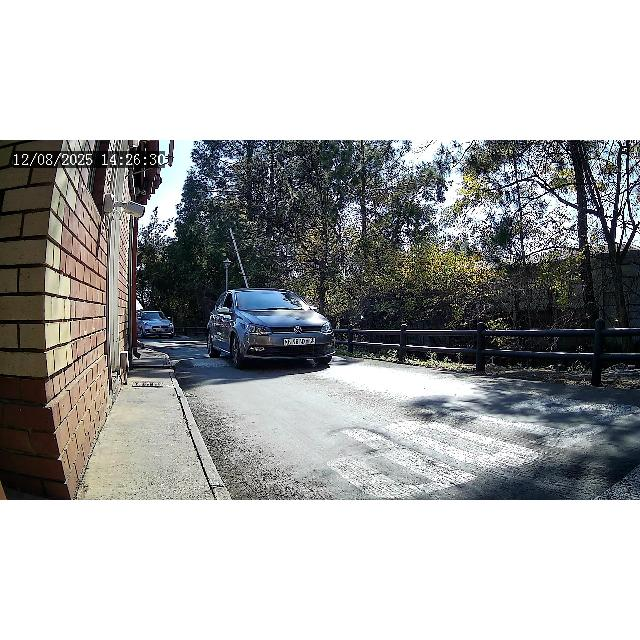car: (205, 287, 335, 368), (136, 308, 176, 339)
plate: (283, 337, 315, 345)
